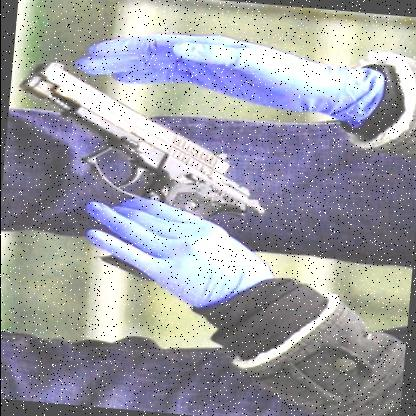rifle: (5, 50, 277, 285)
